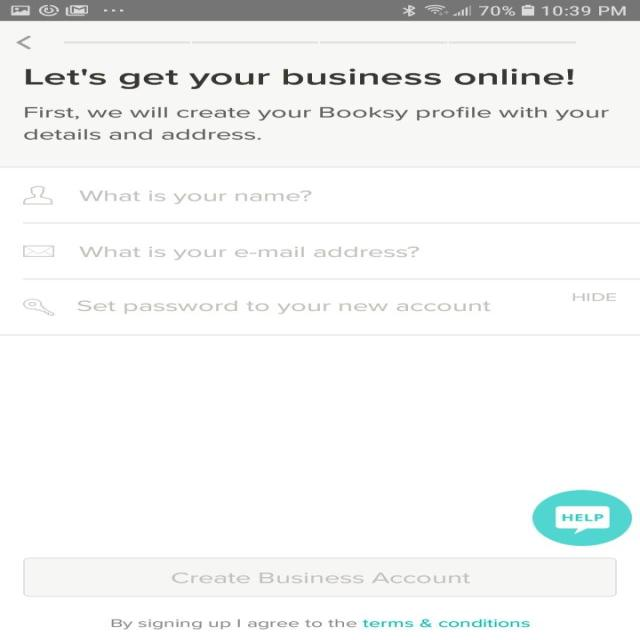Icon: (532, 490, 632, 546), (22, 186, 52, 204), (22, 245, 54, 257), (16, 36, 32, 50)
Image: (22, 298, 54, 316)
Text: (23, 106, 609, 140), (24, 68, 574, 89), (77, 300, 490, 314), (110, 618, 530, 630), (78, 246, 419, 260), (78, 190, 312, 204), (572, 292, 616, 301)
TextButton: (22, 557, 616, 597)
